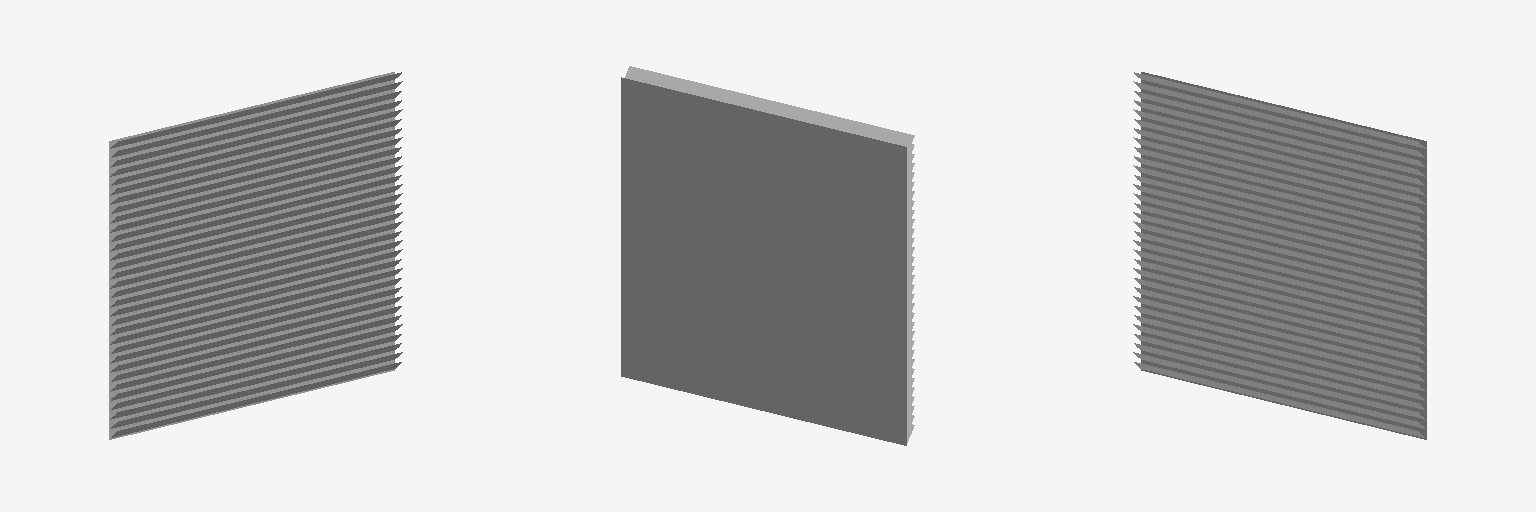
File: Faraway-Island_02_01.obj
The picture shows the model from 3 angles: view 1: azimuth 30°, elevation 25°; view 2: azimuth 150°, elevation 25°; view 3: azimuth 330°, elevation 25°; orthographic projection.
Parts seen in each view (by area): view 1: map; view 2: map; view 3: map.
Boxes of the visible parts, box(x1,y1,x2,y2) form: map: box(109, 72, 402, 439); map: box(621, 66, 914, 445); map: box(1133, 72, 1426, 439).
Bounding box in the file's own units: 32 × 32.61 × 1.63.